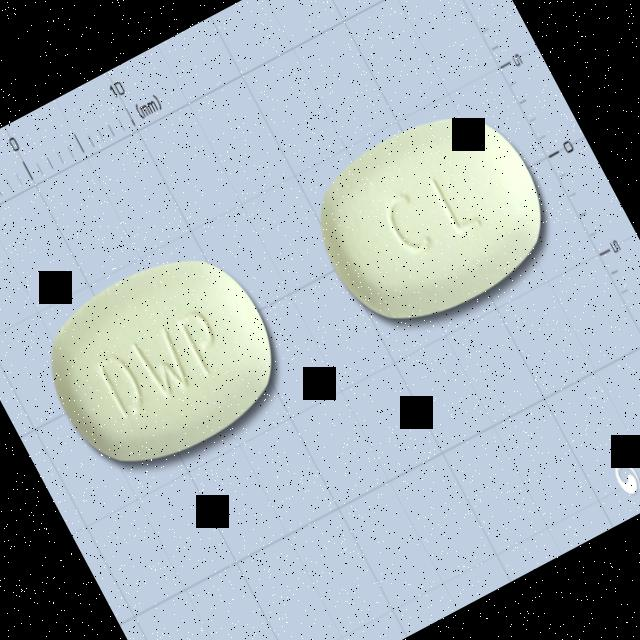Clacin -500mg: (17, 222, 308, 499), (287, 82, 574, 354)
